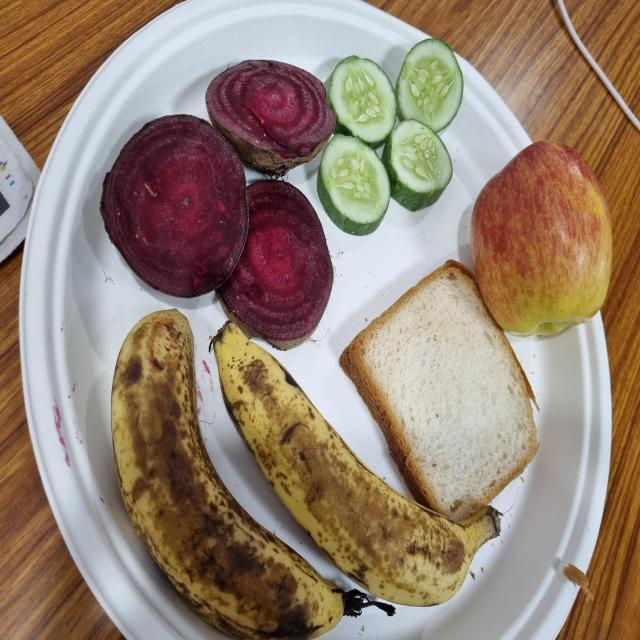apple: (469, 141, 614, 340)
banana: (212, 321, 500, 610), (111, 311, 345, 639)
cucumber: (318, 130, 392, 239), (325, 56, 400, 162), (383, 120, 454, 213), (396, 39, 464, 136)
